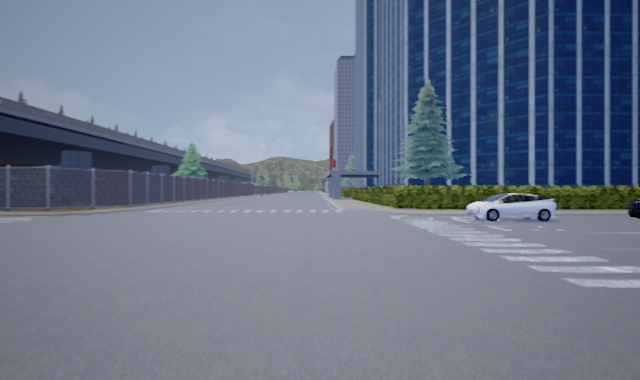vehicle: (465, 193, 555, 221)
